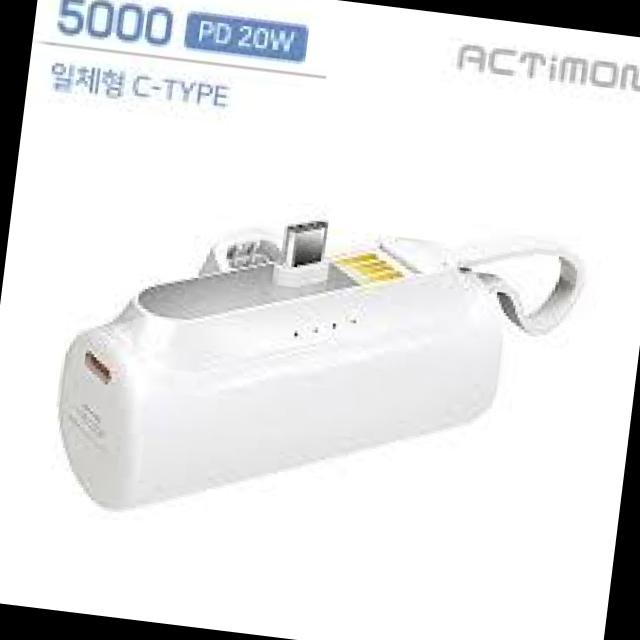power_bank: (40, 182, 528, 564)
